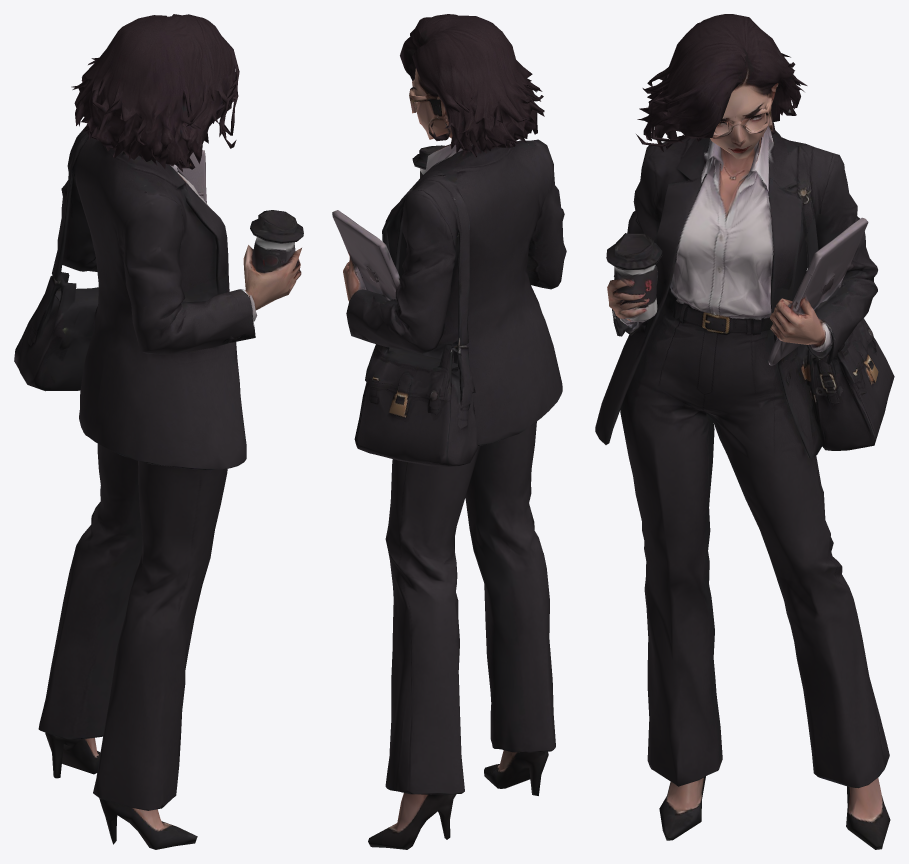
The model's file is strategist-profile.glb.
The picture shows the model from 3 angles, left to right: view 1: azimuth 30°, elevation 25°; view 2: azimuth 150°, elevation 25°; view 3: azimuth 270°, elevation 25°; orthographic projection. The views are drawn at different scales.
Parts seen in each view (by area): view 1: tripo_node_c7f8701d-a994-4b1a-a5f2-a5390d55edc6; view 2: tripo_node_c7f8701d-a994-4b1a-a5f2-a5390d55edc6; view 3: tripo_node_c7f8701d-a994-4b1a-a5f2-a5390d55edc6.
Part boxes in pixels (x1,y1,x2,y2): tripo_node_c7f8701d-a994-4b1a-a5f2-a5390d55edc6: (14,14,303,849); tripo_node_c7f8701d-a994-4b1a-a5f2-a5390d55edc6: (332,14,566,849); tripo_node_c7f8701d-a994-4b1a-a5f2-a5390d55edc6: (595,14,894,849).
Size of the model in its own units: 0.2281 by 1 by 0.3311.
1 material, 1 textured.
